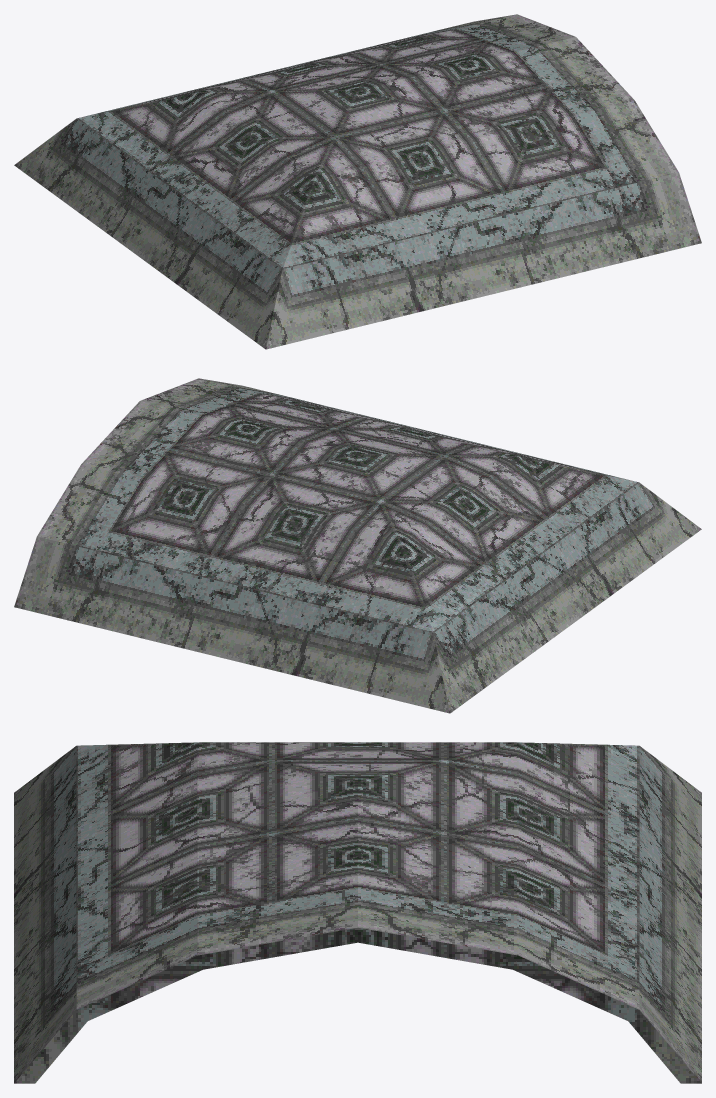
File: roof_set1_01.gltf
The picture shows the model from 3 angles, top to bottom: view 1: azimuth 30°, elevation 25°; view 2: azimuth 150°, elevation 25°; view 3: azimuth 270°, elevation 25°; orthographic projection. The views are drawn at different scales.
Parts seen in each view (by area): view 1: roof_set1_01; view 2: roof_set1_01; view 3: roof_set1_01.
Boxes of the visible parts, <box> form: roof_set1_01: <box>14,14,701,349</box>; roof_set1_01: <box>14,378,701,713</box>; roof_set1_01: <box>14,742,701,1083</box>.
Size of the model in its own units: 4 by 1 by 4.
1 material, 1 textured.
